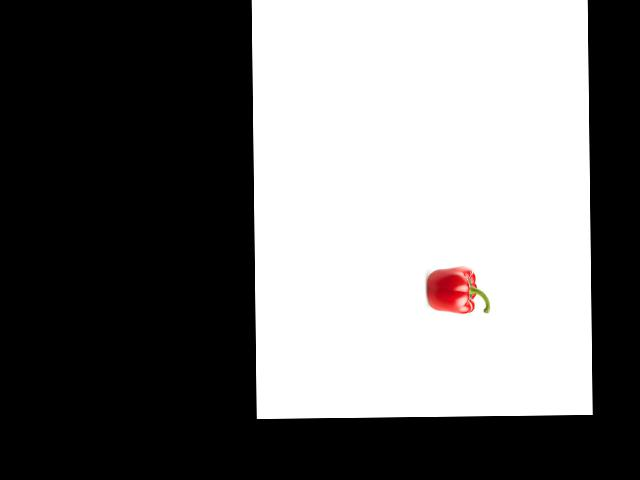bell_pepper: (426, 267, 490, 315)
